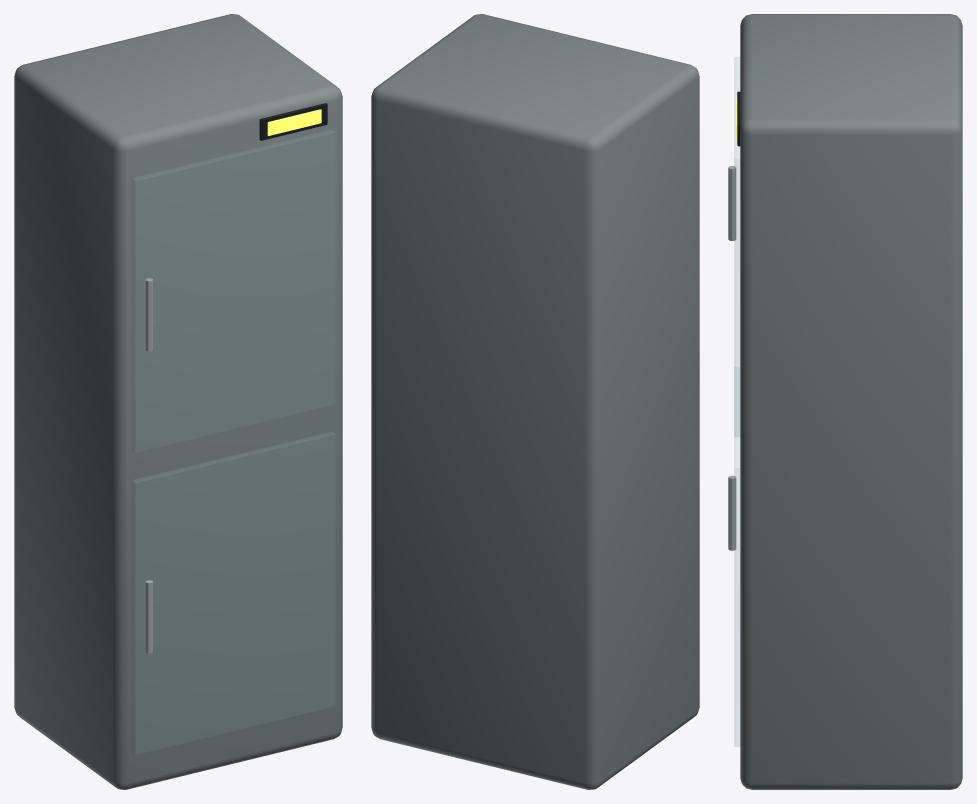
The model's file is sc-warming-cabinet.glb.
The picture shows the model from 3 angles, left to right: view 1: azimuth 30°, elevation 25°; view 2: azimuth 150°, elevation 25°; view 3: azimuth 270°, elevation 25°; orthographic projection. The views are drawn at different scales.
Parts seen in each view (by area): view 1: sc-warming-cabinet; view 2: sc-warming-cabinet; view 3: sc-warming-cabinet.
Boxes of the visible parts, x1,y1,x2,y2 form: sc-warming-cabinet: [14, 14, 342, 789]; sc-warming-cabinet: [371, 14, 699, 789]; sc-warming-cabinet: [728, 14, 962, 789].
Bounding box in the file's own units: 0.68 × 1.86 × 0.59.
